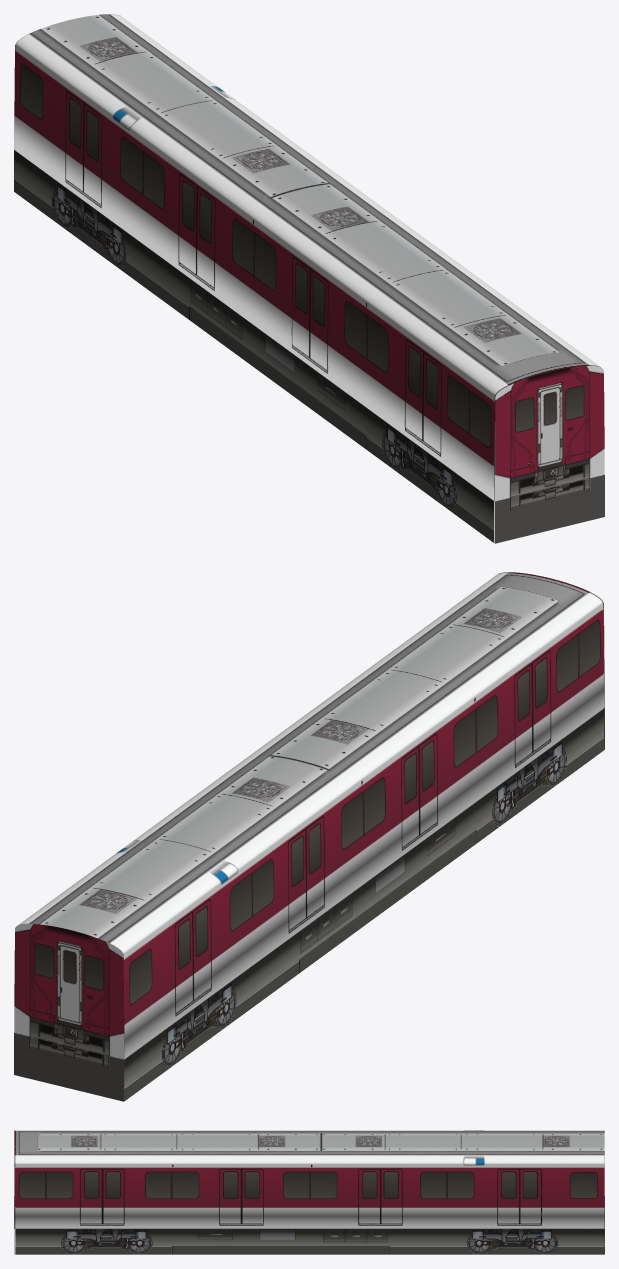
The model's file is car2.glb.
3 renders of one model, top to bottom at view 1: azimuth 30°, elevation 25°; view 2: azimuth 150°, elevation 25°; view 3: azimuth 270°, elevation 25°, orthographic. The views are drawn at different scales.
Parts seen in each view (by area): view 1: kintetsu-2610-car2; view 2: kintetsu-2610-car2; view 3: kintetsu-2610-car2.
Boxes of the visible parts, x1,y1,x2,y2 form: kintetsu-2610-car2: [14, 14, 604, 543]; kintetsu-2610-car2: [14, 572, 604, 1101]; kintetsu-2610-car2: [14, 1130, 604, 1254].
Bounding box in the file's own units: 2.74 × 3.77 × 20.75.
8 materials, 7 textured.
